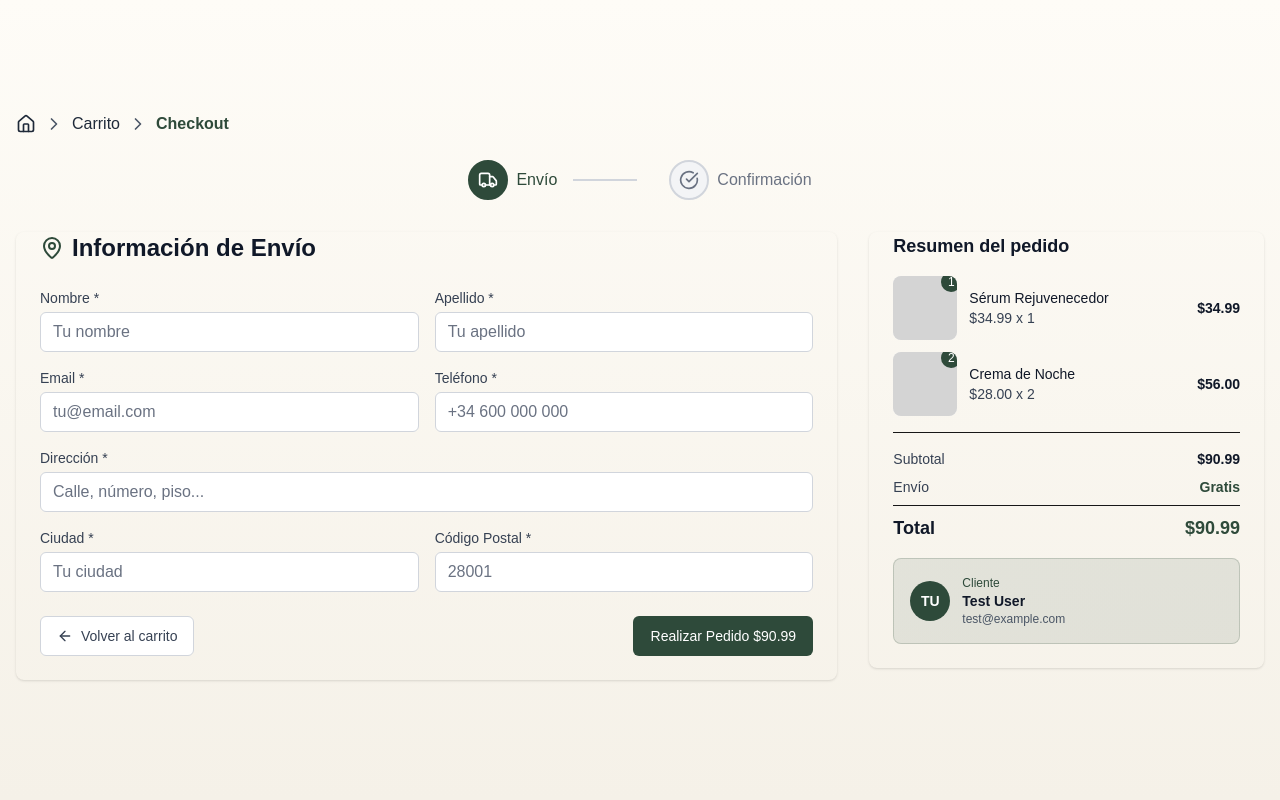
it: CheckoutPage › Validación del formulario › muestra errores de validación cuando se envía el formulario vacío
Click the button "Realizar Pedido $90.99" at (723, 636), box [633,616,813,656]
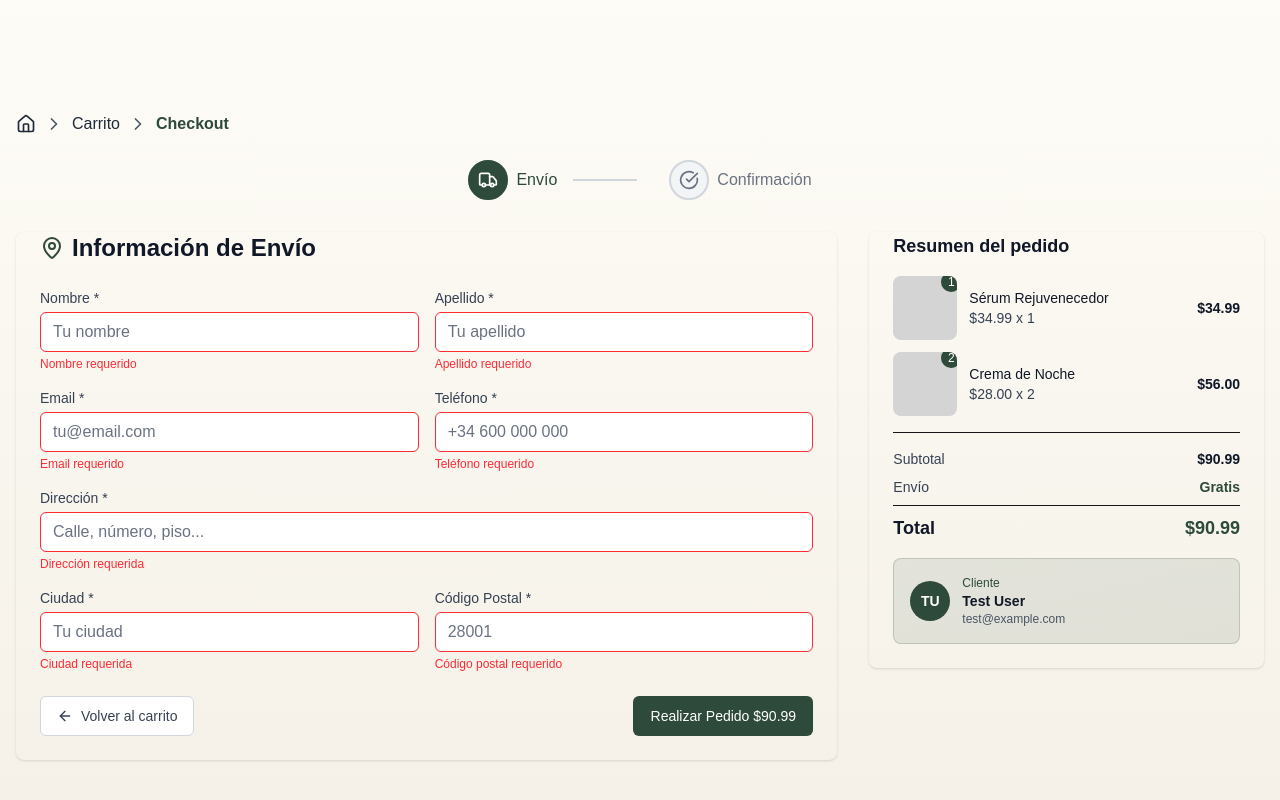
Result: the text "Nombre requerido" is shown at [40,357,137,371]
Result: the text "Apellido requerido" is shown at [435,357,531,371]
Result: the text "Email requerido" is shown at [40,457,124,471]
